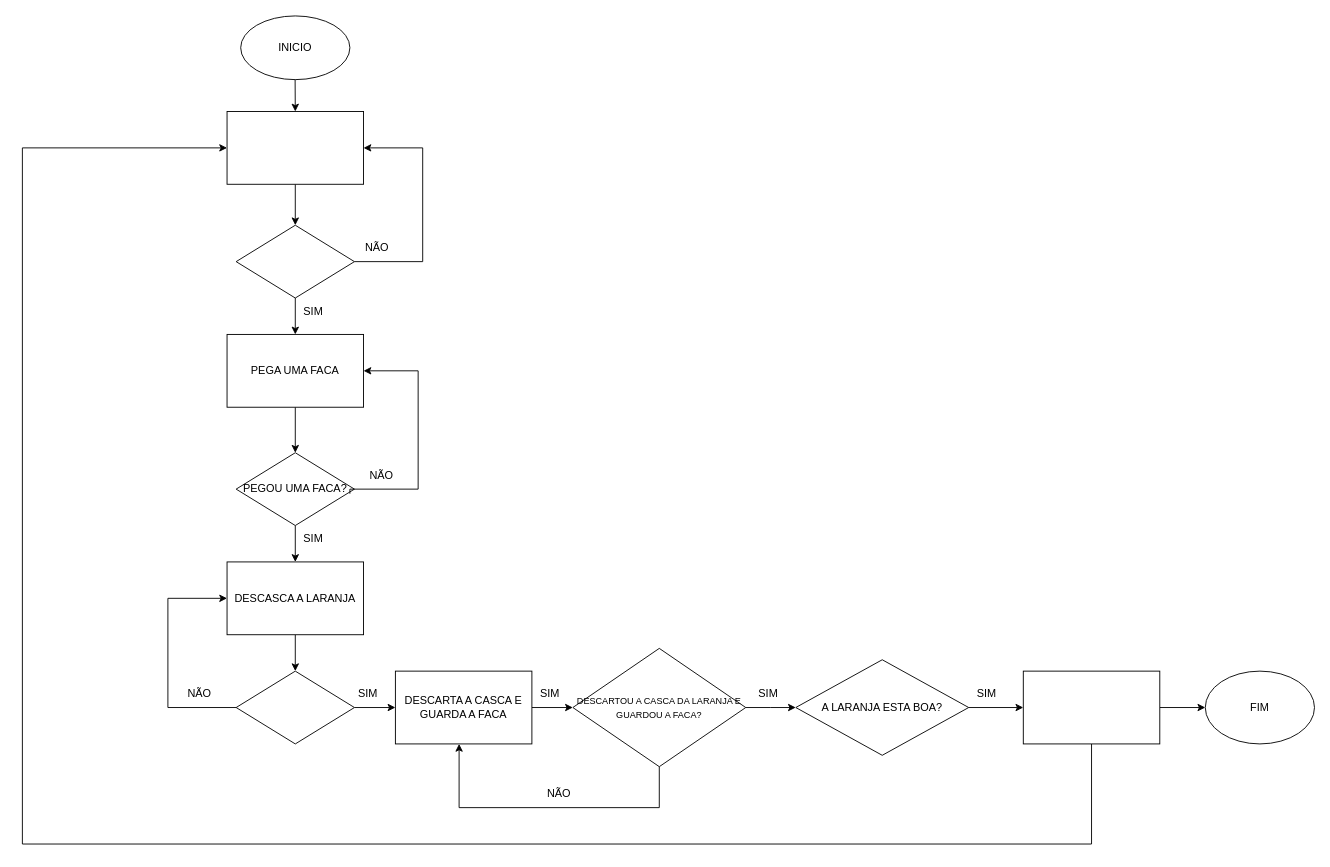
Some shapes in this 1330 by 867 pixel diagram are drawn without their labels. The shapes that lost their labels are listed below. From the top down, each one's centre as x and y in pixels, then its label:
At point (295, 147): "ESCOLHE UMA LARANJA".
At point (294, 261): "PEGOU UMA LARANJA?".
At point (294, 707): "DESCASCOU A LARANJA?".
At point (1091, 707): "COME A LARANJA".
